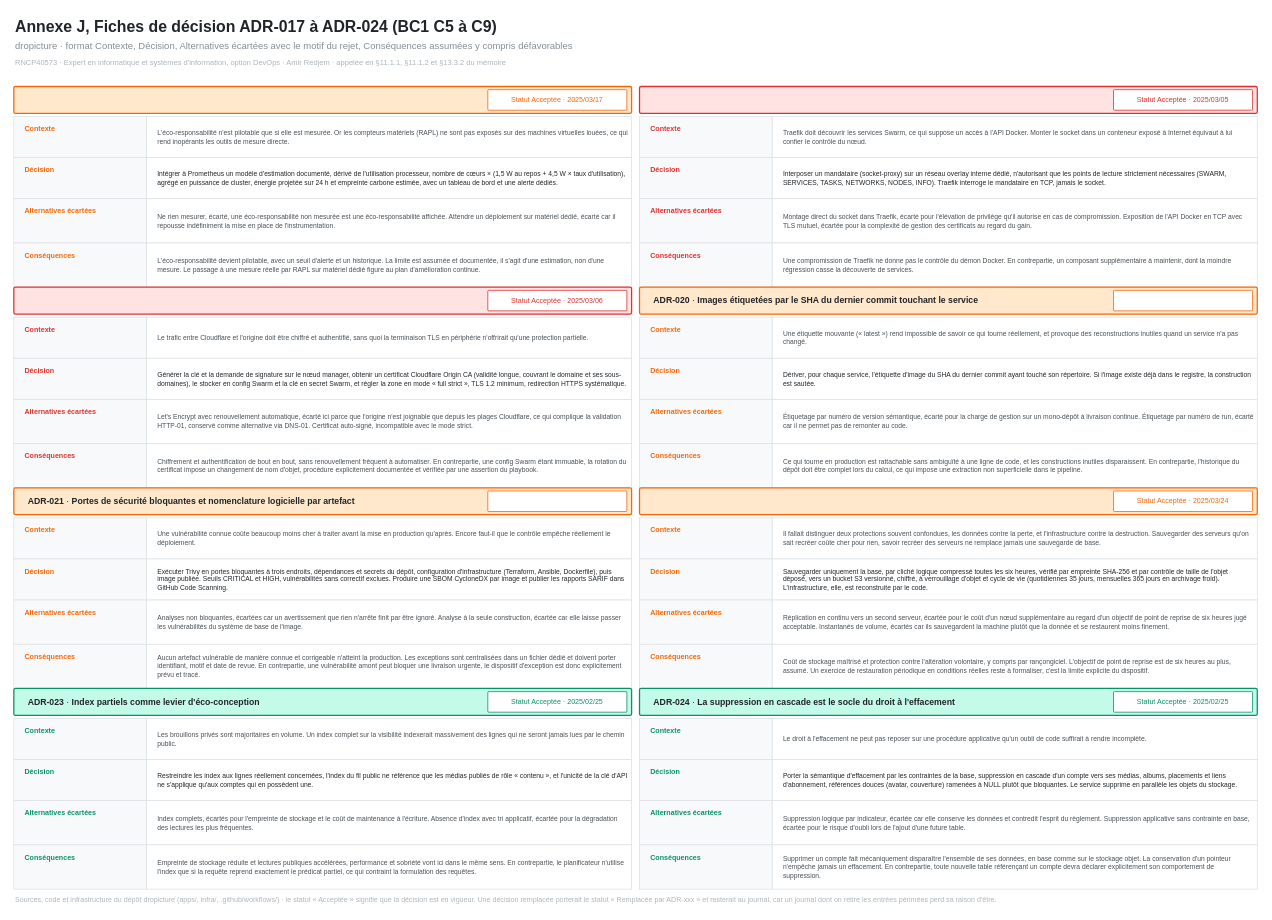
Some shapes in this 1272 by 920 pixel diagram are drawn without their labels. The box of each missing label's shape, as (x1, y1, x2, y2) in pixels:
ADR-017 · Estimation logicielle de la consommation énergétique: (13, 85, 632, 114)
ADR-018 · Le socket Docker n'est jamais exposé directement: (638, 85, 1258, 114)
ADR-019 · Certificat Cloudflare Origin CA et TLS strict de bout en bout: (13, 286, 632, 314)
ADR-022 · Sauvegarde logique vers un stockage objet durci plutôt que réplication: (638, 487, 1258, 515)
Statut Acceptée · 2025/03/10: (1113, 290, 1253, 311)
Statut Acceptée · 2025/03/11: (487, 490, 627, 512)
